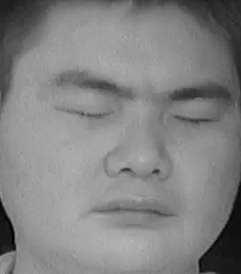blink: (54, 95, 112, 130), (172, 103, 218, 135)
mouth: (86, 184, 182, 234)
